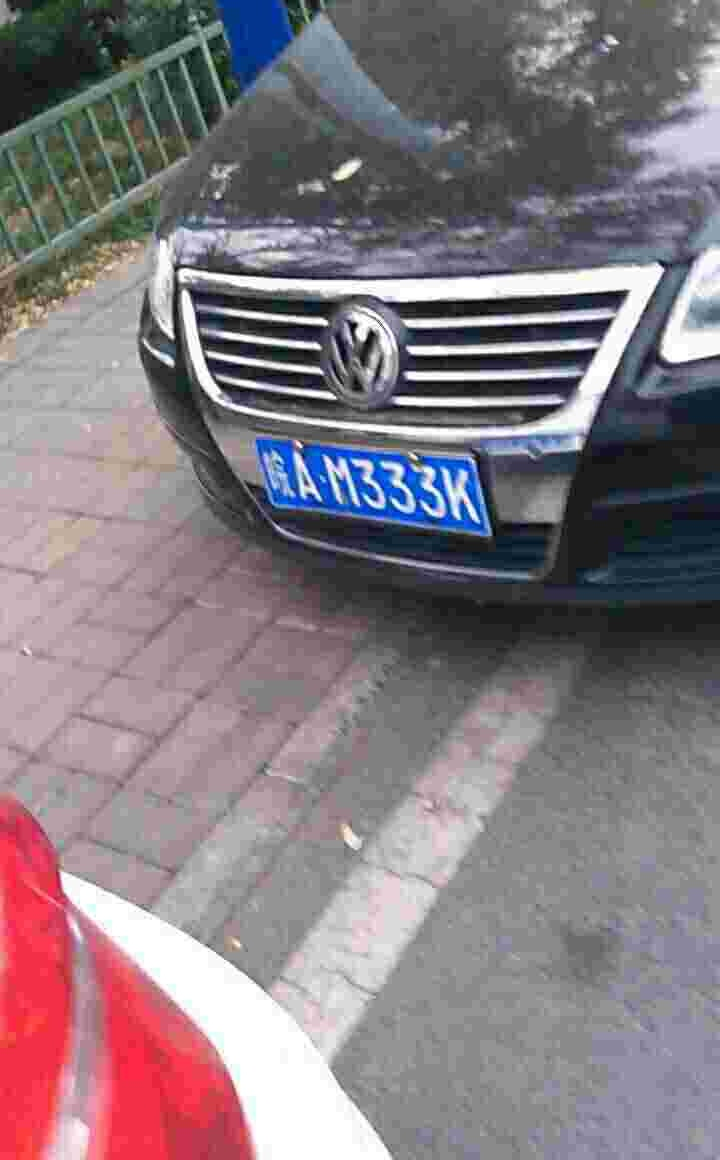license_plate: (257, 439, 499, 540)
